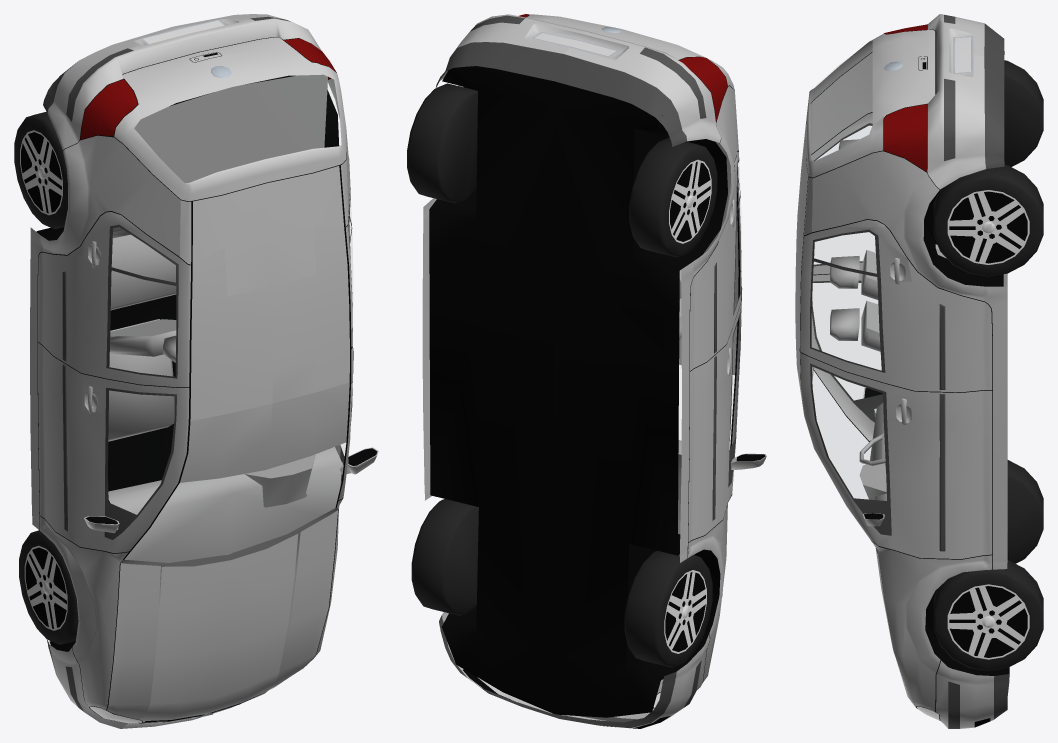
The model's file is golf5p_b.fbx.
3 renders of one model, left to right at view 1: azimuth 30°, elevation 25°; view 2: azimuth 150°, elevation 25°; view 3: azimuth 270°, elevation 25°, orthographic. The views are drawn at different scales.
Visible parts, largest first — view 1: body, interior, black, plastic, tyre, wheel, rearlght; view 2: black, body, tyre, plastic, wheel, rearlght, nplate; view 3: body, tyre, plastic, black, wheel, interior, rearlght, nplate.
Boxes of the visible parts, x1,y1,x2,y2 form: body: [30, 14, 378, 728]; interior: [108, 74, 342, 562]; black: [21, 37, 352, 723]; plastic: [43, 16, 353, 711]; tyre: [14, 112, 78, 644]; wheel: [20, 130, 67, 630]; rearlght: [80, 38, 336, 139]; black: [429, 14, 741, 728]; body: [422, 14, 766, 728]; tyre: [407, 83, 717, 667]; plastic: [435, 15, 742, 728]; wheel: [664, 159, 711, 653]; rearlght: [519, 14, 727, 121]; nplate: [534, 33, 616, 56]; body: [795, 14, 1007, 728]; tyre: [933, 60, 1043, 670]; plastic: [810, 14, 1009, 728]; black: [799, 24, 1027, 727]; wheel: [947, 190, 1029, 659]; interior: [830, 139, 946, 500]; rearlght: [884, 24, 926, 171]; nplate: [954, 37, 971, 72].
Bounding box in the file's own units: 1.83 × 4.14 × 1.42.
